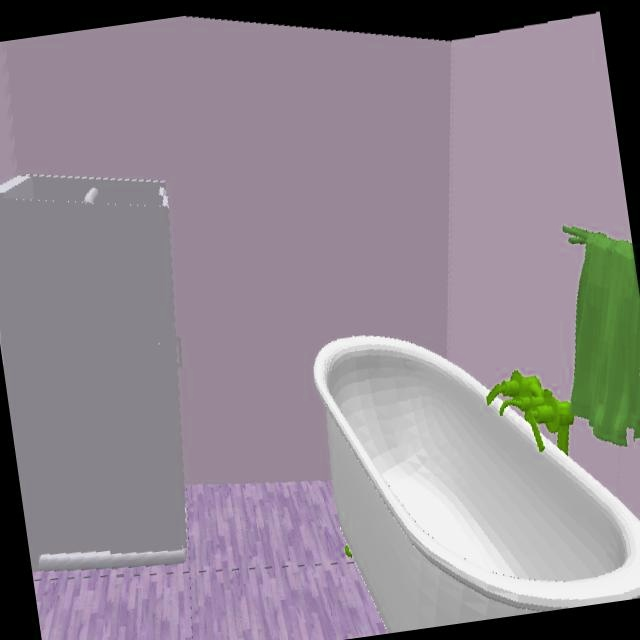bathtube: (314, 336, 640, 633)
shower: (0, 177, 188, 577)
